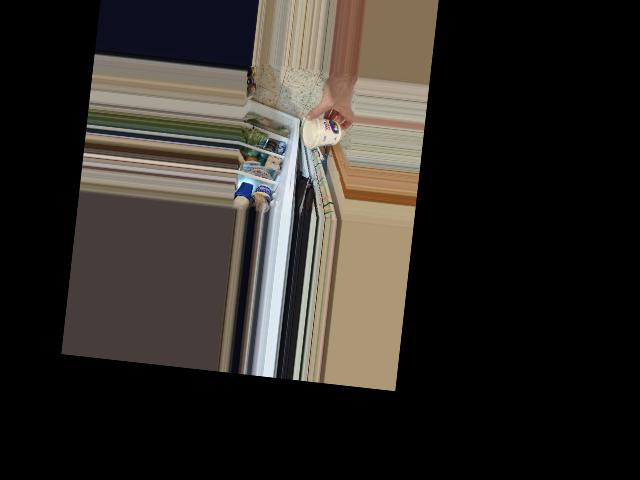cotage: (299, 114, 341, 150)
